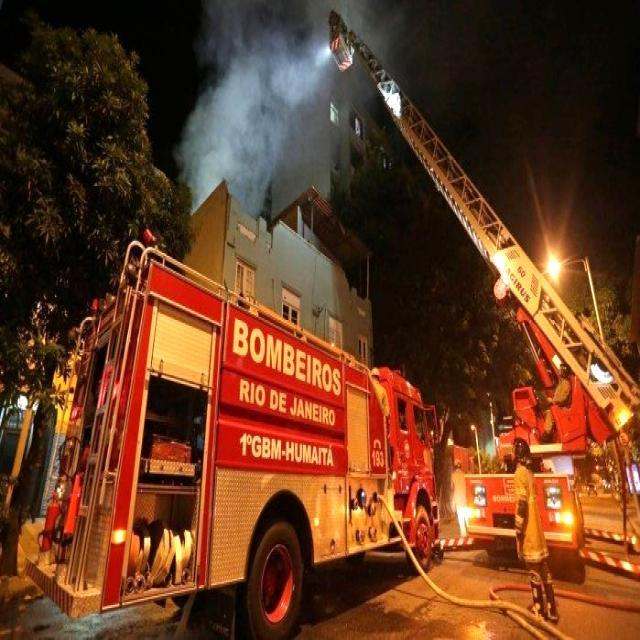Smoke: (172, 0, 426, 211)
